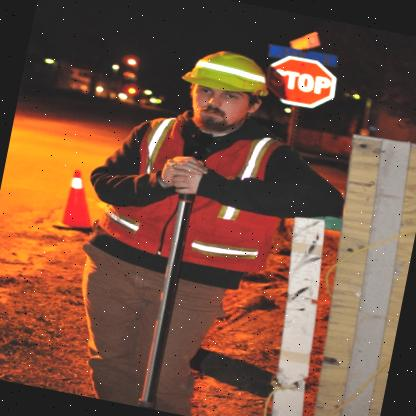capacete: (170, 40, 278, 140)
colete_refletivo: (72, 102, 312, 283)
